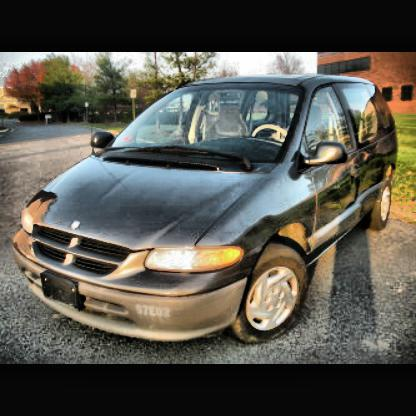Dodge Caravan Minivan 1997: (17, 76, 398, 345)
